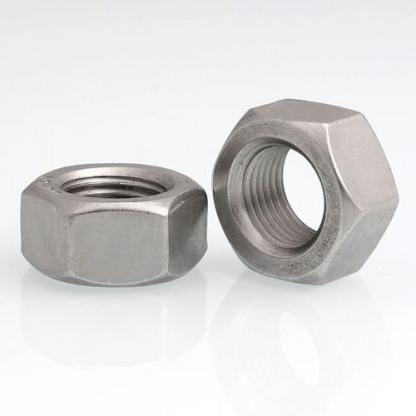FOD: (212, 96, 401, 288), (17, 161, 209, 291)
